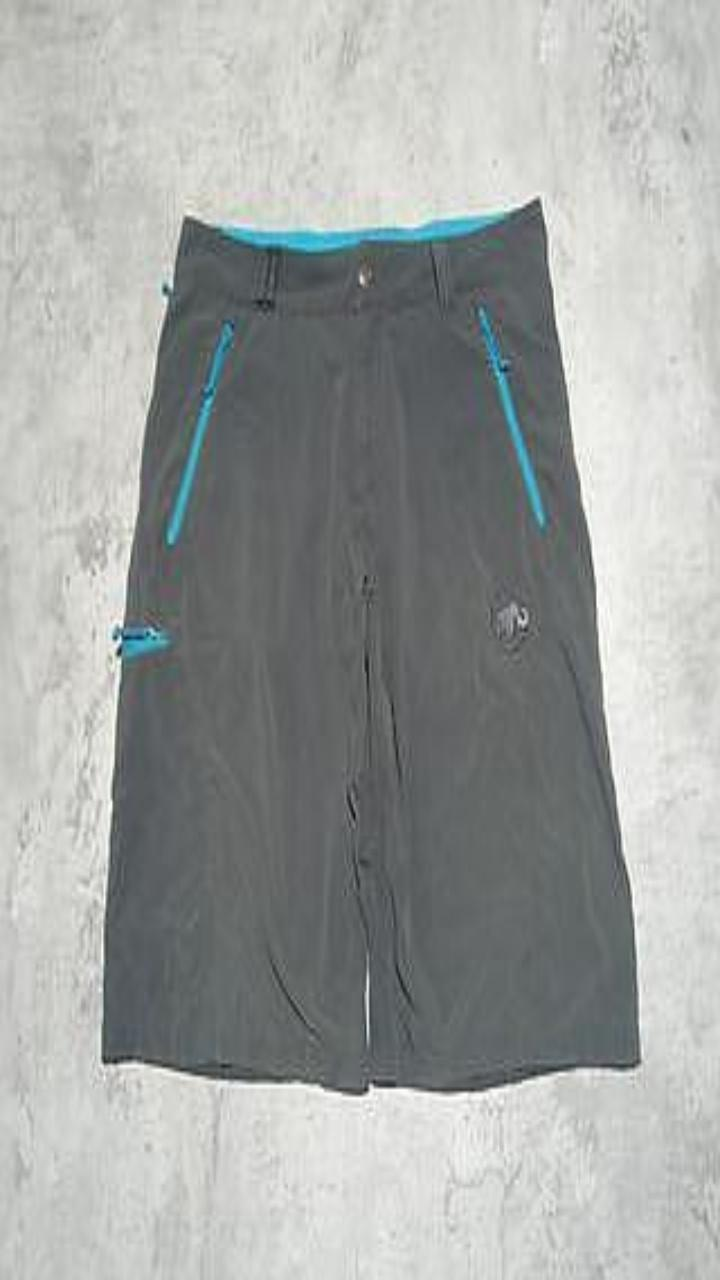Shorts: (102, 198, 639, 1091)
